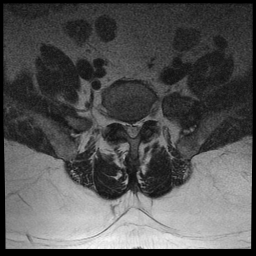CCS_stenosis: (128, 116, 135, 142)
LFS_stenosis: (141, 110, 148, 132)
LLS_normal: (135, 116, 141, 138)
RFS_stenosis: (117, 112, 123, 130)
RLS_normal: (123, 115, 128, 137)
